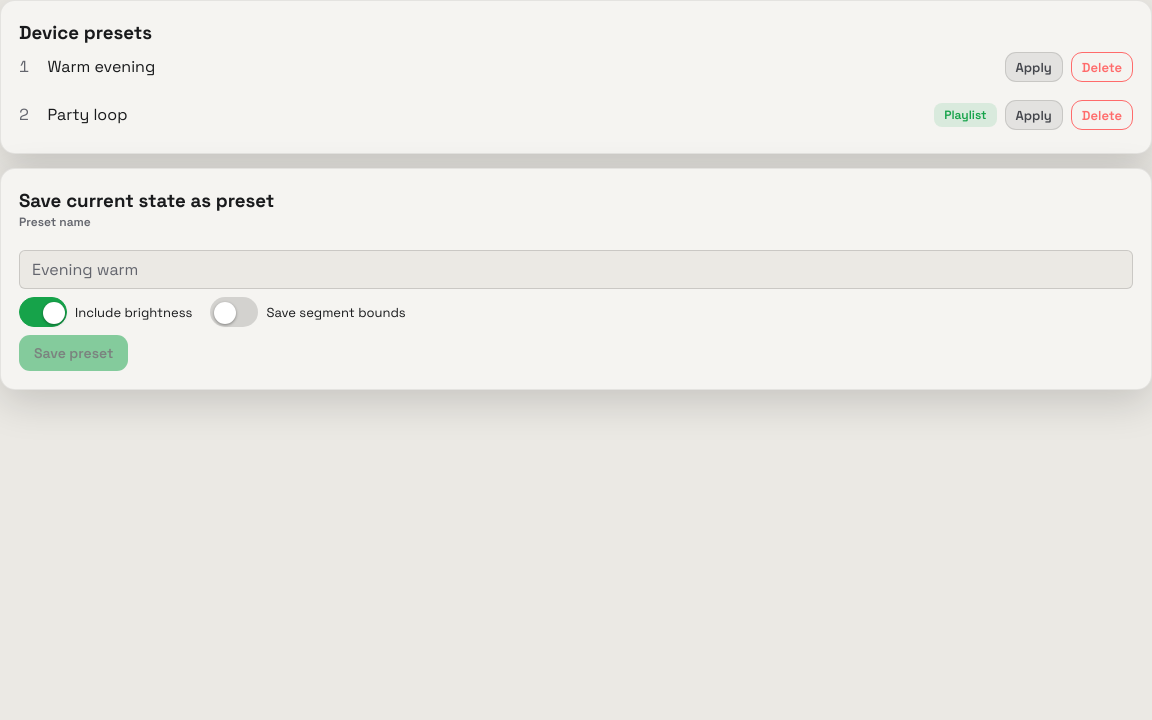
Test: DevicePresetsTab › surfaces a per-target apply failure as an error toast
Click the button with aria-label "Apply preset Warm evening". click: (1034, 67)
box: [1005,52,1063,82]
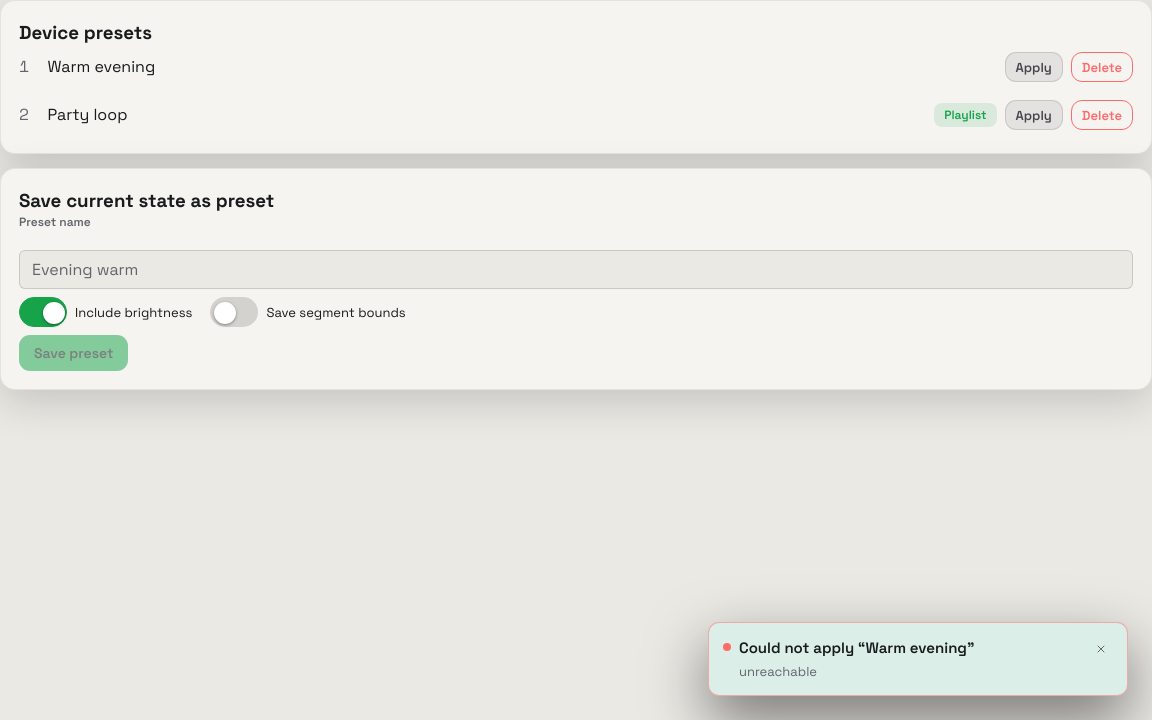
Result: the text "Could not apply “Warm evening”" is shown at [739,638,974,657]
